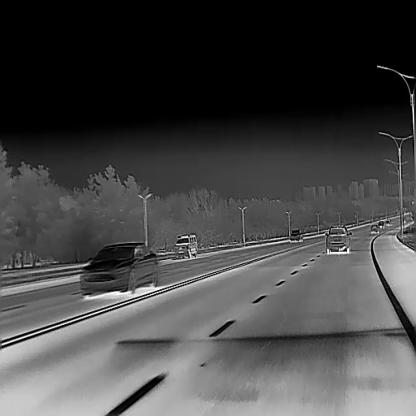car: (79, 241, 159, 294), (324, 224, 352, 252), (174, 232, 197, 258), (290, 227, 303, 241), (370, 224, 378, 232), (378, 220, 384, 225), (386, 220, 389, 224)
